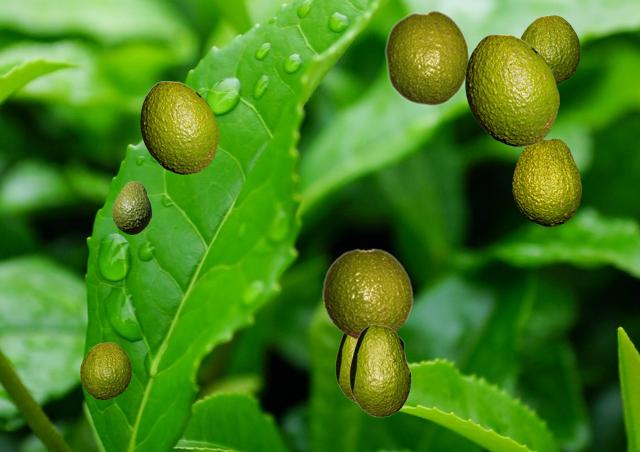avocado: (465, 34, 558, 145), (322, 248, 413, 339), (384, 9, 469, 106), (140, 81, 218, 173), (512, 137, 580, 225), (349, 324, 410, 416), (520, 15, 579, 84), (80, 342, 130, 398), (112, 181, 150, 233), (335, 333, 355, 402)
